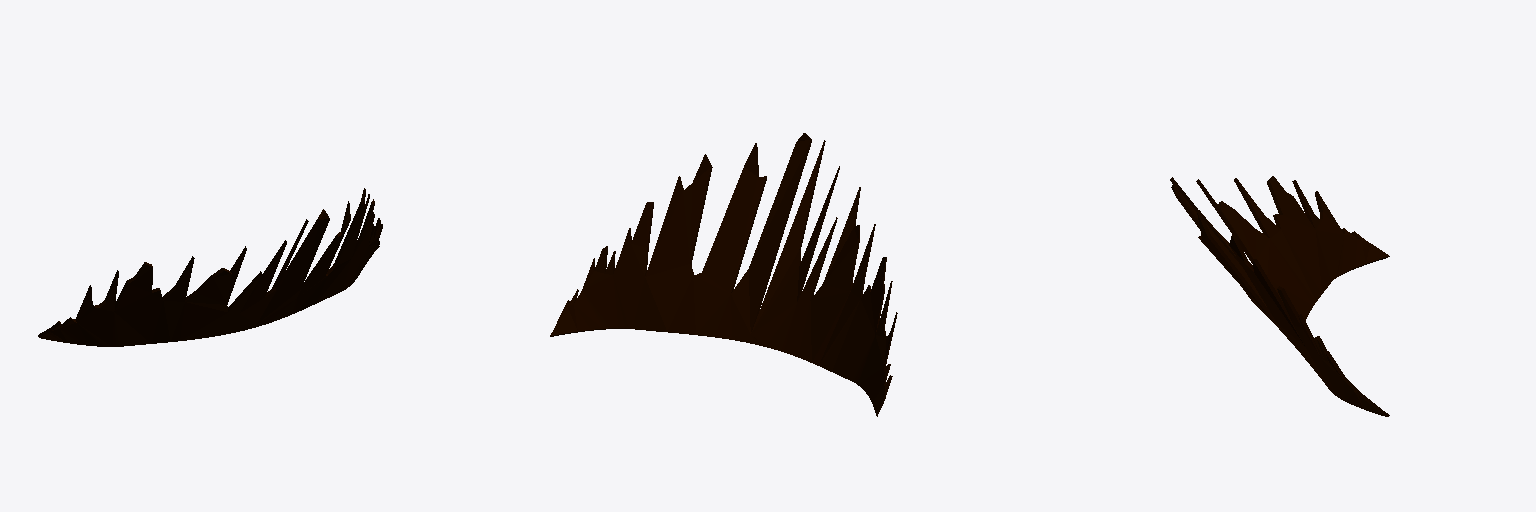
File: ShockWave_1.obj
3 renders of one model, left to right at view 1: azimuth 30°, elevation 25°; view 2: azimuth 150°, elevation 25°; view 3: azimuth 270°, elevation 25°, orthographic.
Parts seen in each view (by area): view 1: 円; view 2: 円; view 3: 円.
Part boxes in pixels (left/top/right/bottom): 円: left=38, top=188, right=382, bottom=346; 円: left=550, top=133, right=897, bottom=416; 円: left=1170, top=176, right=1389, bottom=416.
Size of the model in its own units: 75.04 by 35.88 by 43.92.